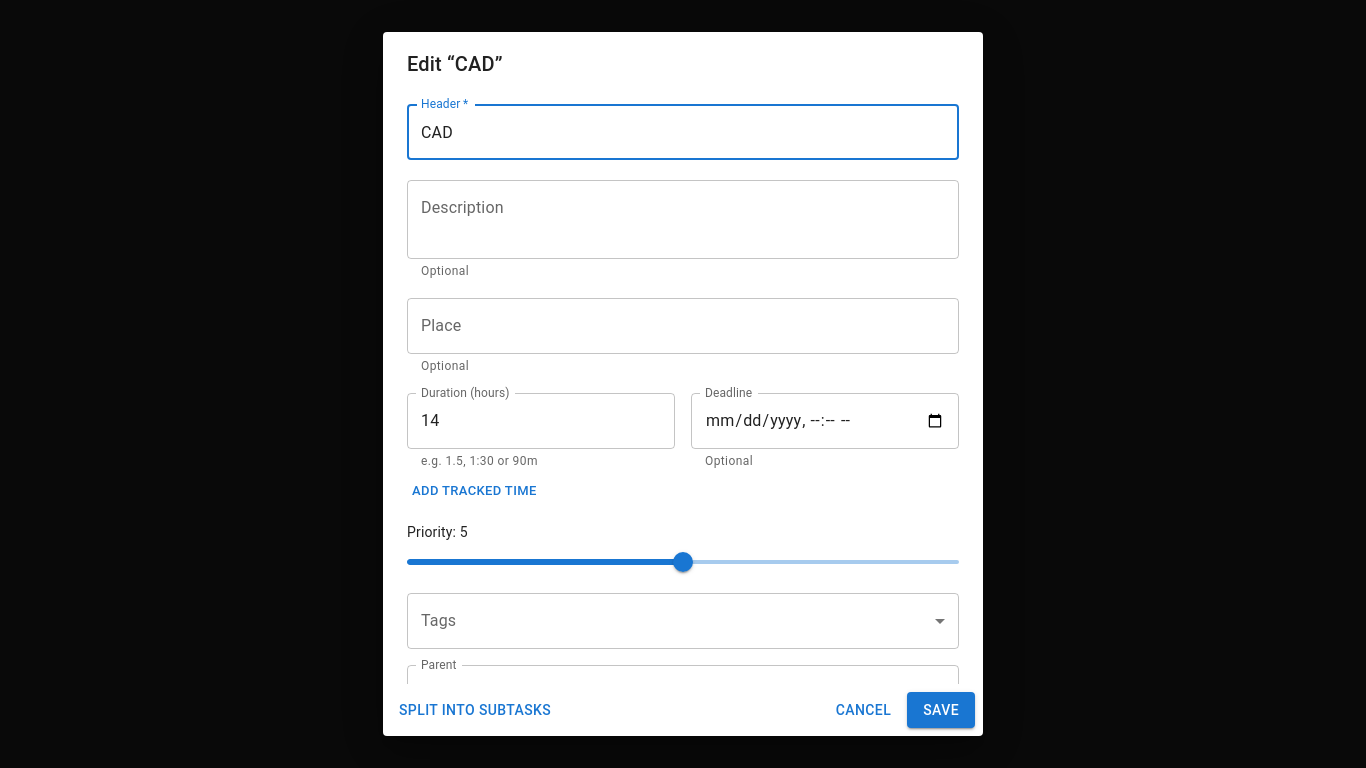
Test: TaskFormDialog — the task tree (UI-8) › rejects a deadline later than a parent’s
The image size is (1366, 768).
Type "2026-11-15T12:00" into the field labelled "Deadline" at (825, 421), box x1=691 y1=393 x2=959 y2=449
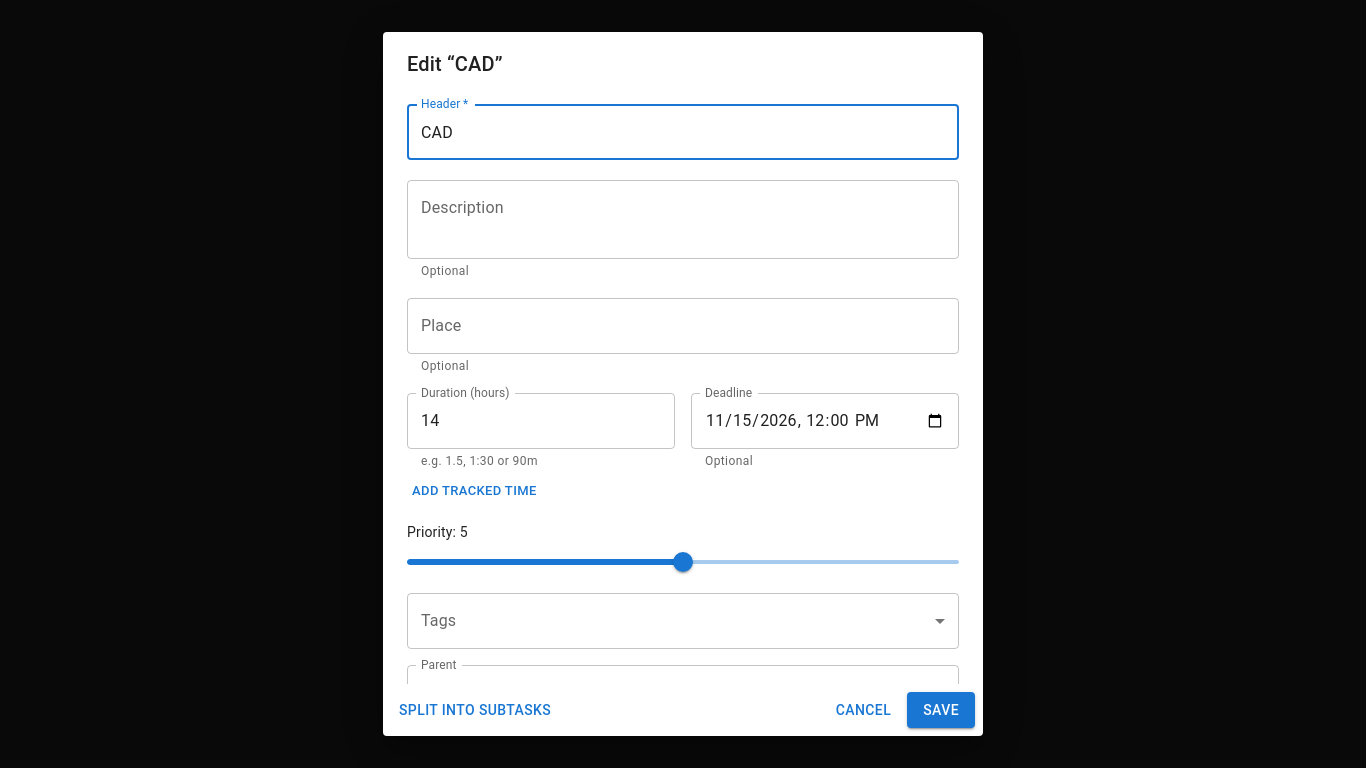
Click the button "Save" at (941, 710), box x1=907 y1=692 x2=975 y2=728
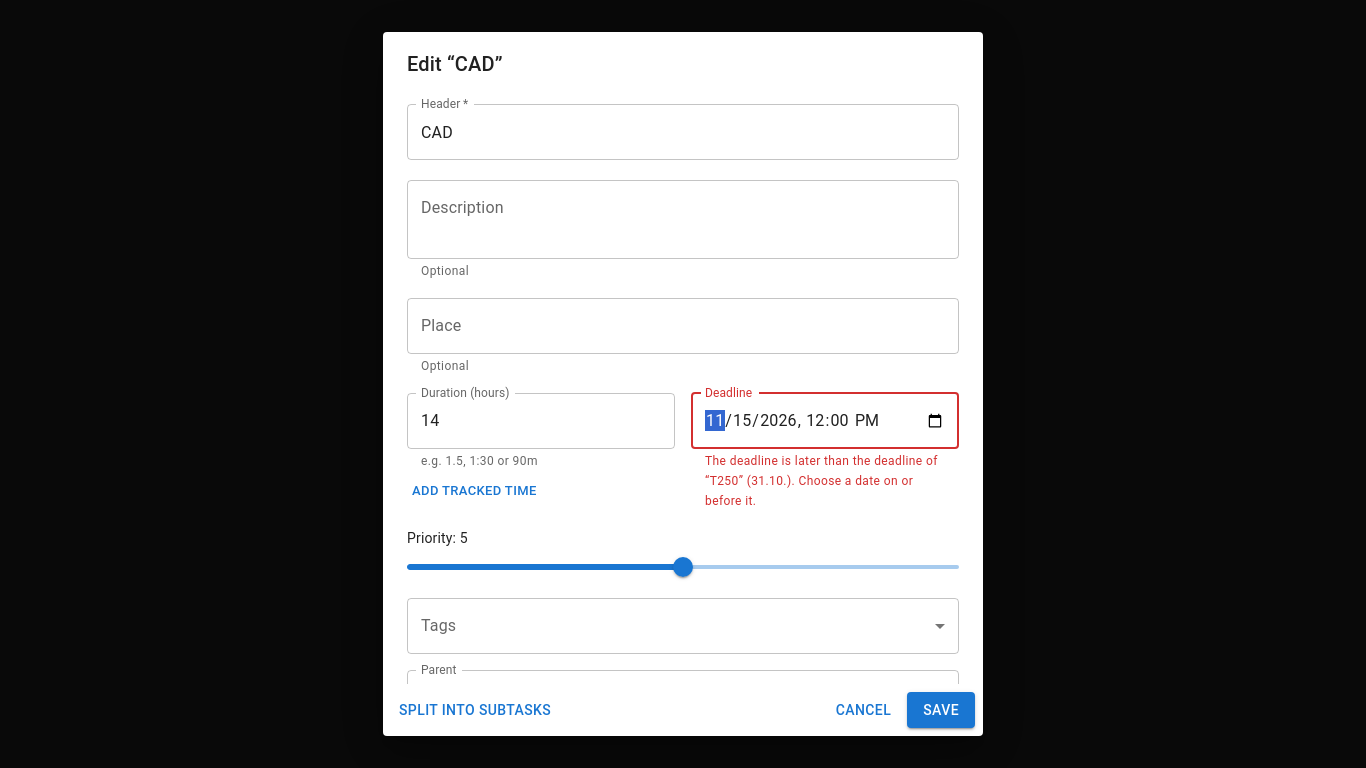
expect the text "later than the deadline of “T250”" is shown: met, box x1=705 y1=454 x2=938 y2=508
